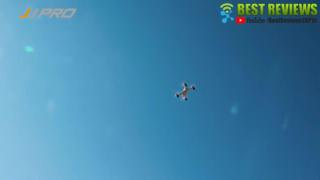UAV: (176, 83, 195, 101)
